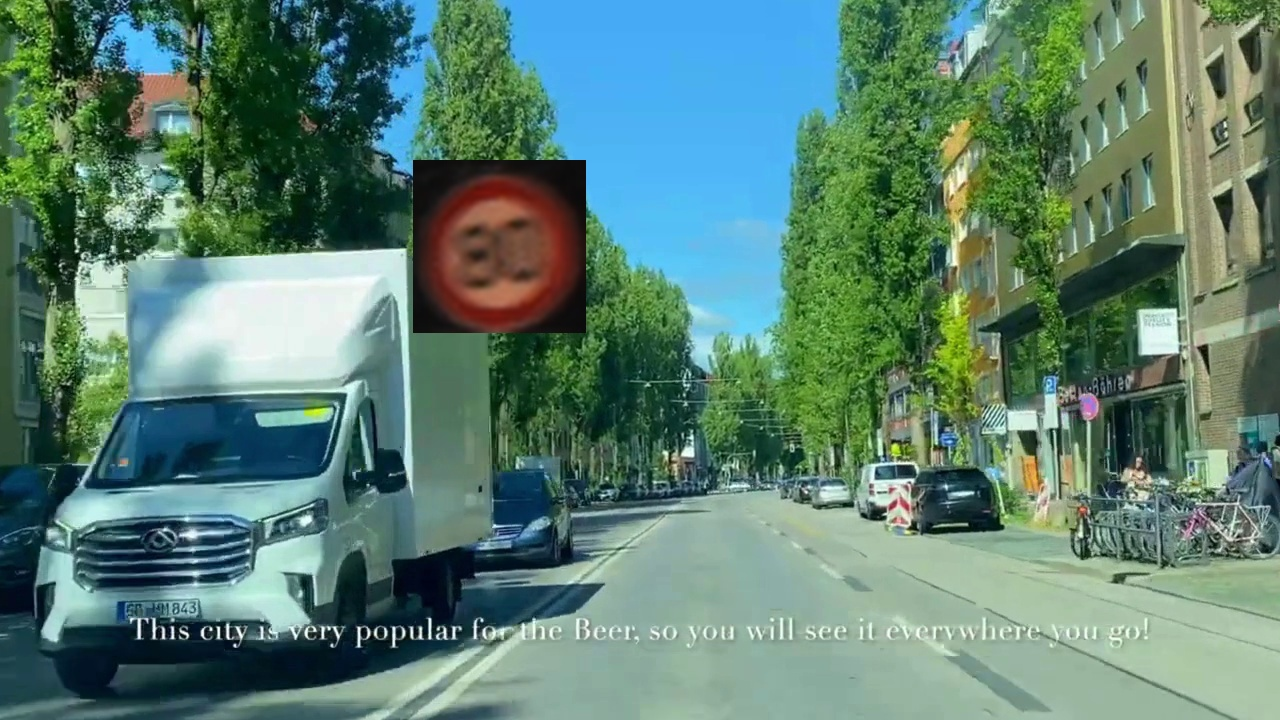Speed 80: (413, 160, 586, 333)
